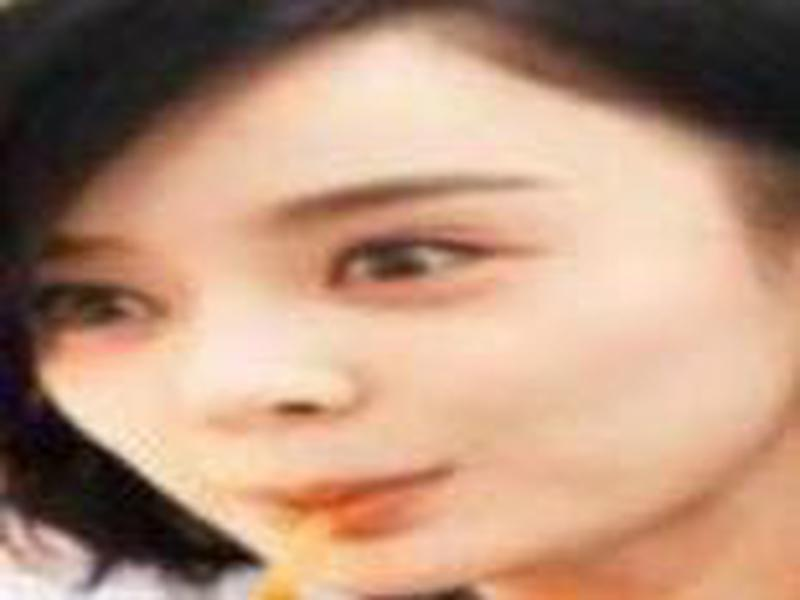without_mask: (19, 101, 689, 587)
